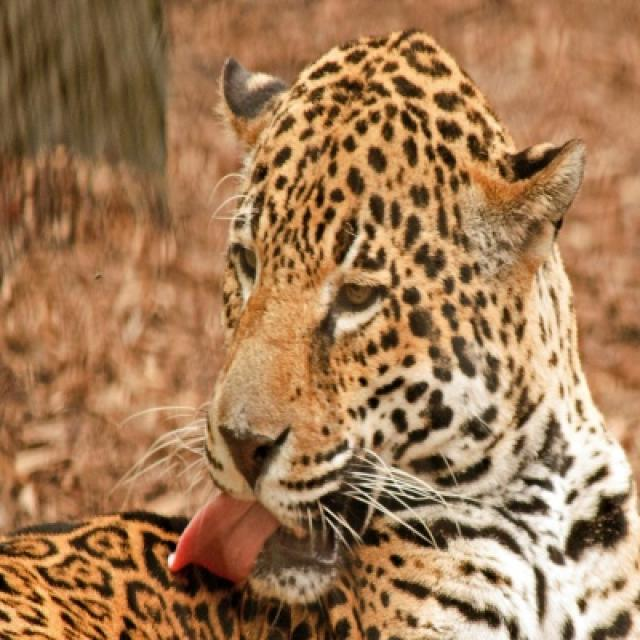Jaguar: (0, 29, 638, 638)
